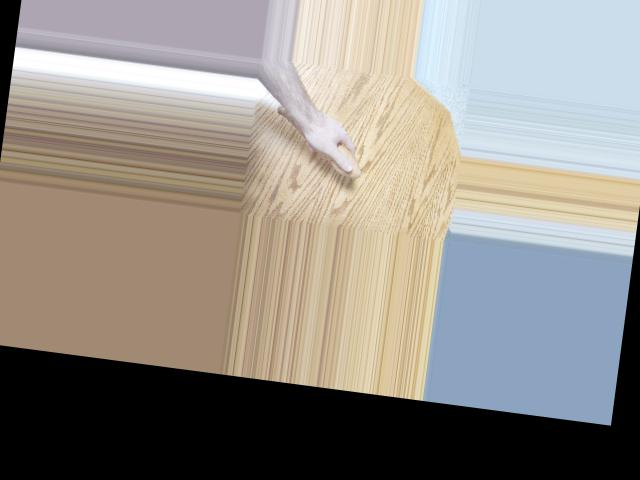sweet_potato: (271, 106, 369, 180)
